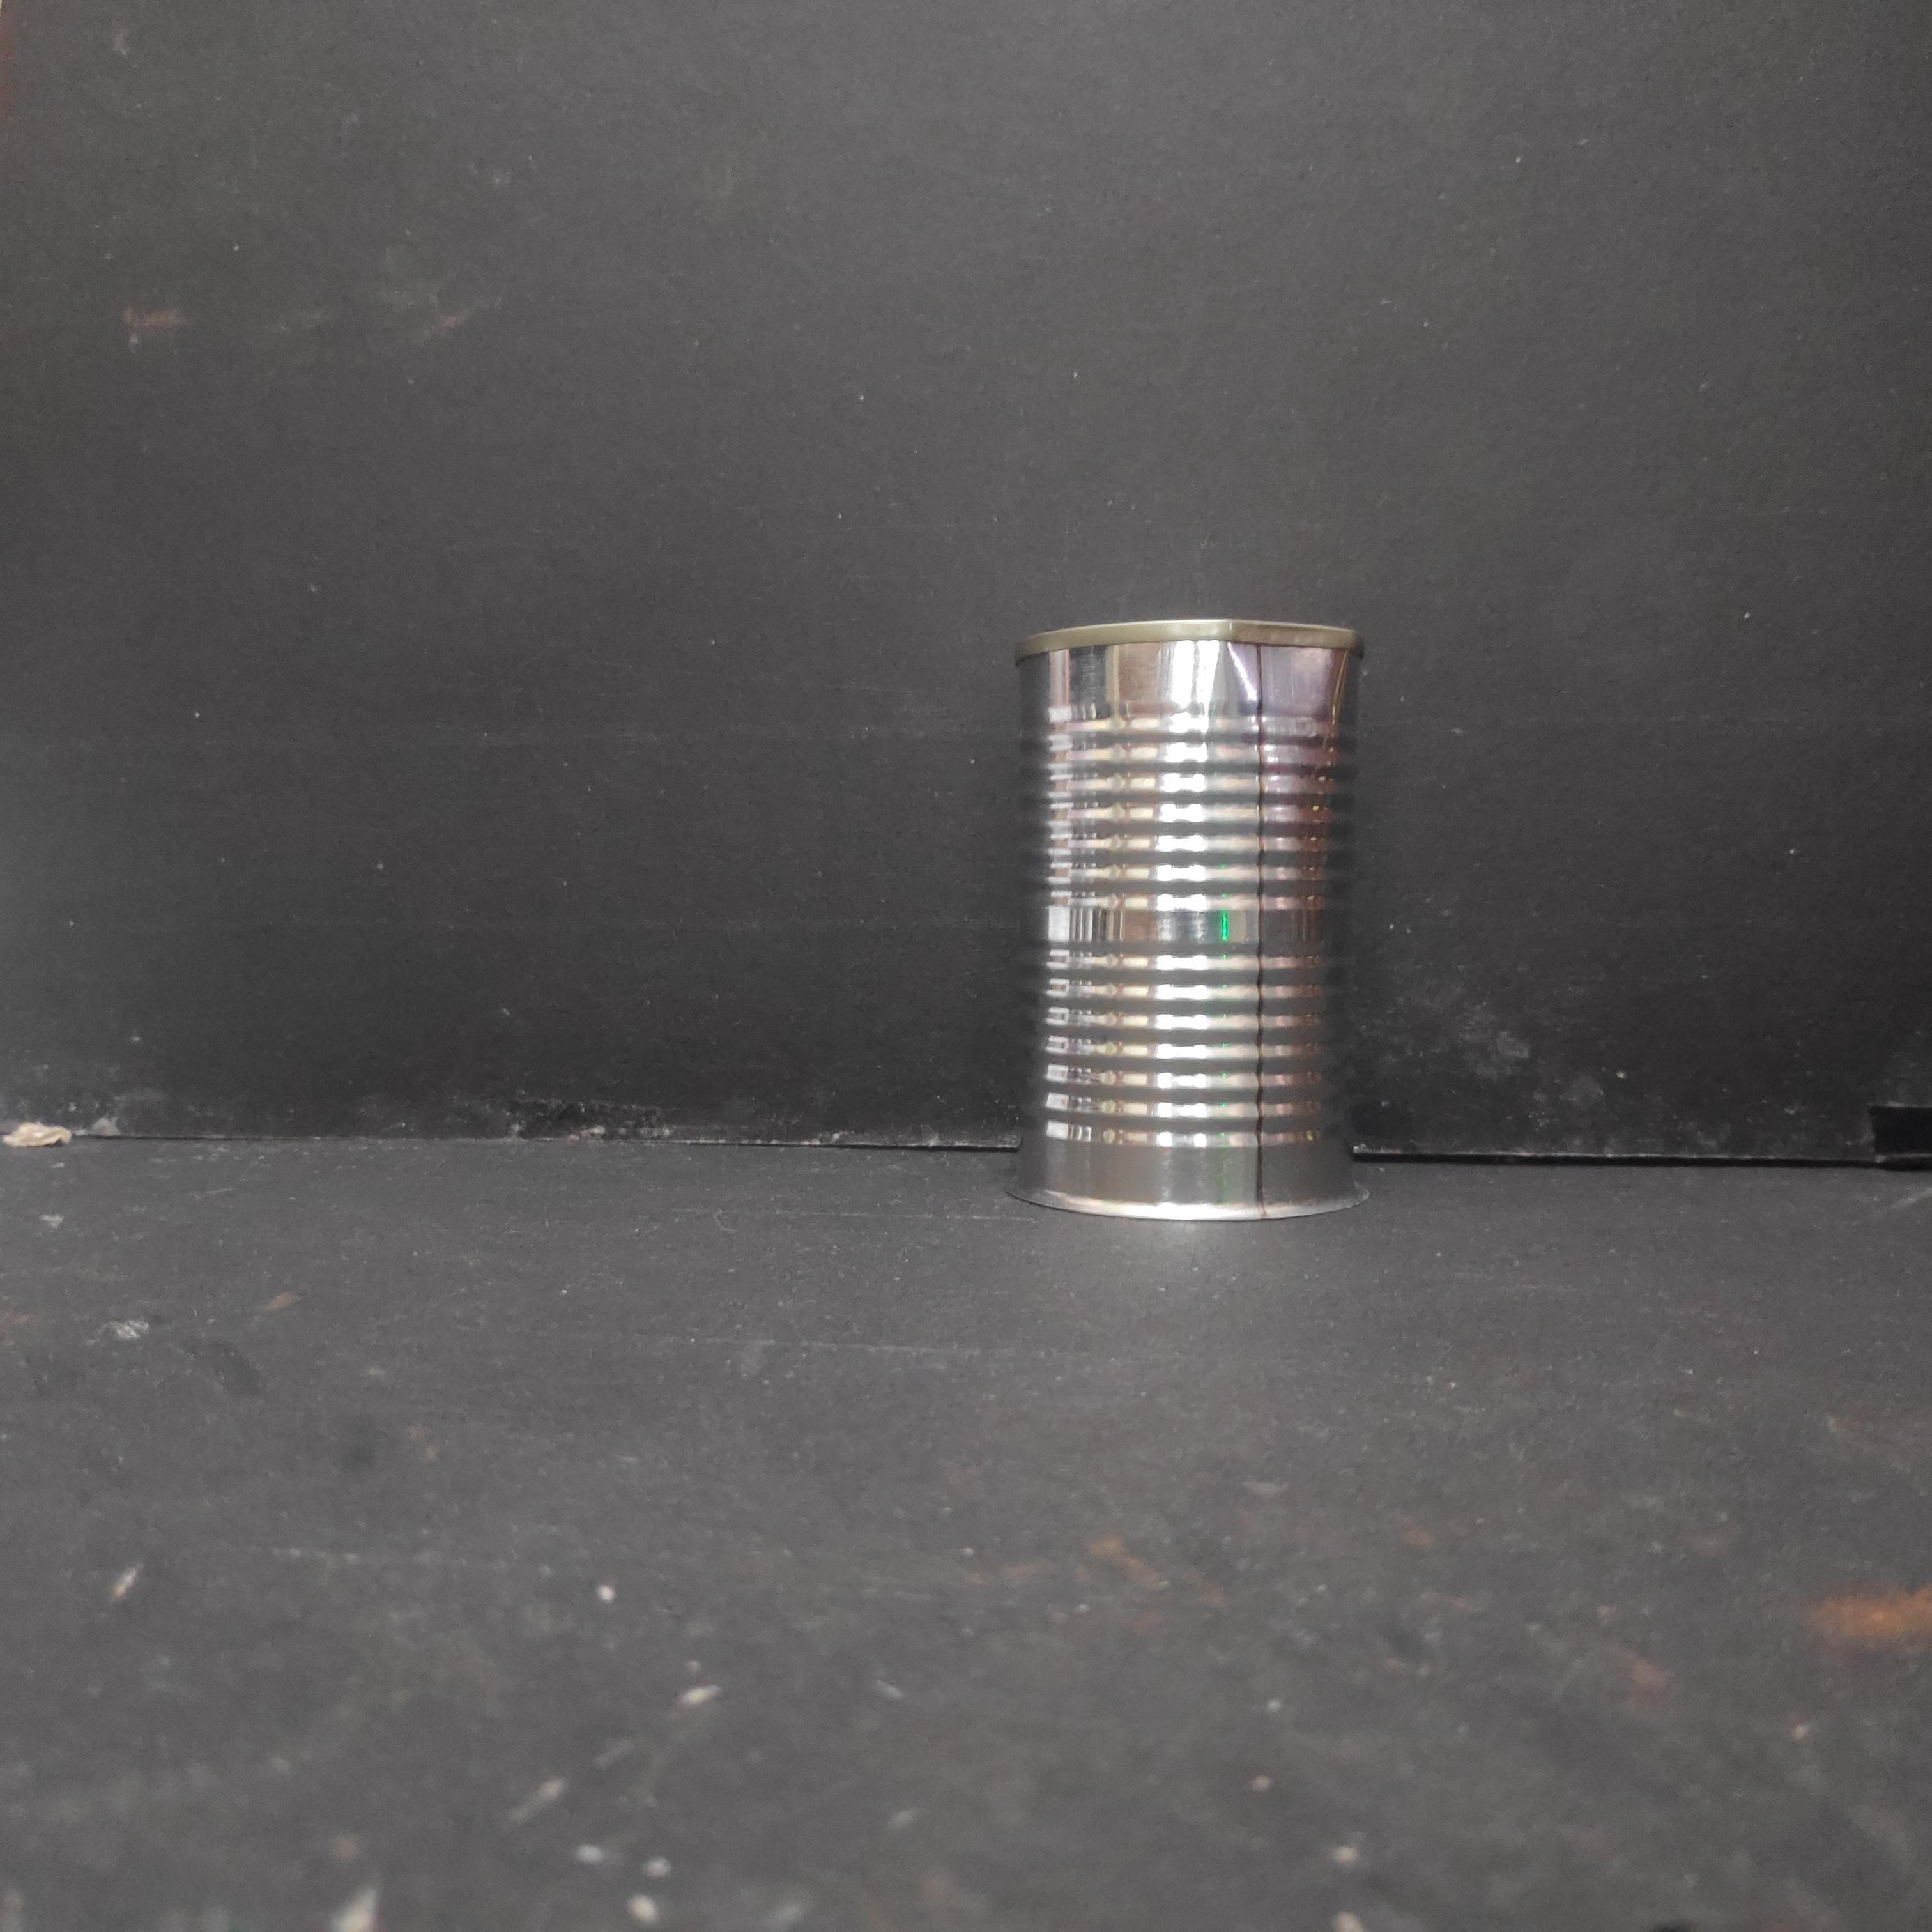Dented: (984, 591, 1383, 1243)
